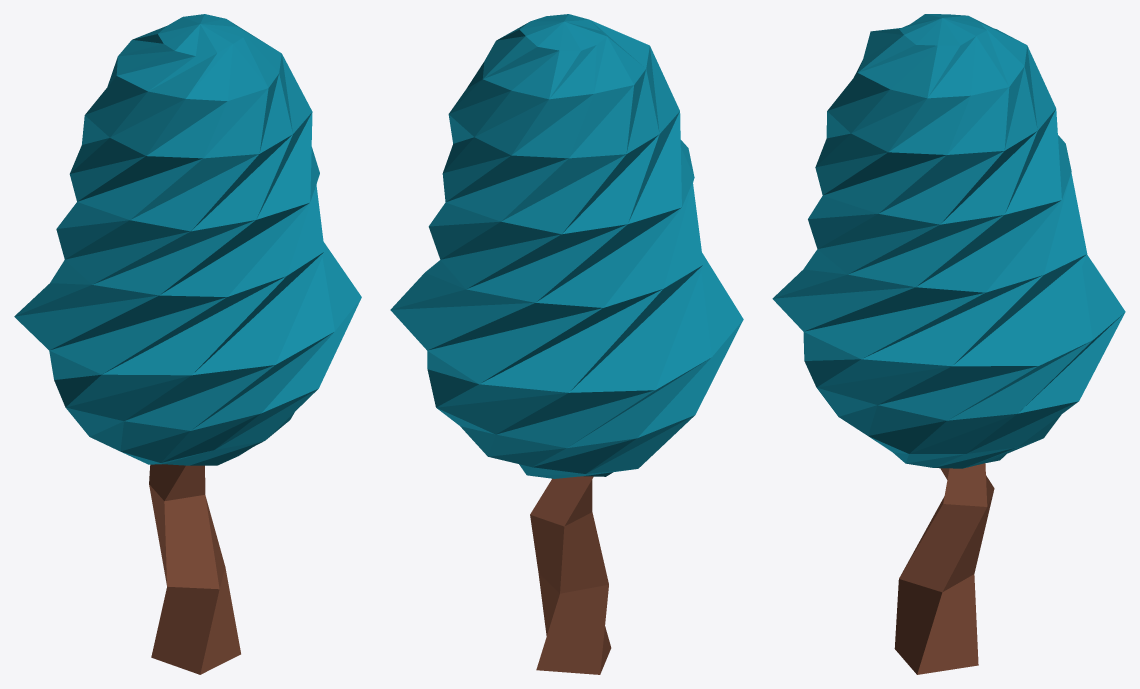
File: Tree_14_summer_blue_mat.fbx
3 views of the same model, side by side, from view 1: azimuth 30°, elevation 25°; view 2: azimuth 150°, elevation 25°; view 3: azimuth 270°, elevation 25° (orthographic). The views are drawn at different scales.
Visible parts, largest first — view 1: Tree_14_summer_blue_mat; view 2: Tree_14_summer_blue_mat; view 3: Tree_14_summer_blue_mat.
Part boxes in pixels (<box>): Tree_14_summer_blue_mat: <box>14,14,361,674</box>; Tree_14_summer_blue_mat: <box>390,14,743,674</box>; Tree_14_summer_blue_mat: <box>772,14,1125,674</box>.
Bounding box in the file's own units: 104 × 223 × 111.
